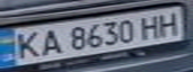0: (115, 16, 139, 44)
3: (103, 19, 124, 47)
6: (84, 20, 106, 50)
8: (66, 22, 90, 52)
A: (36, 26, 63, 57)
H: (154, 10, 184, 37), (136, 11, 163, 39)
K: (6, 28, 45, 61)
